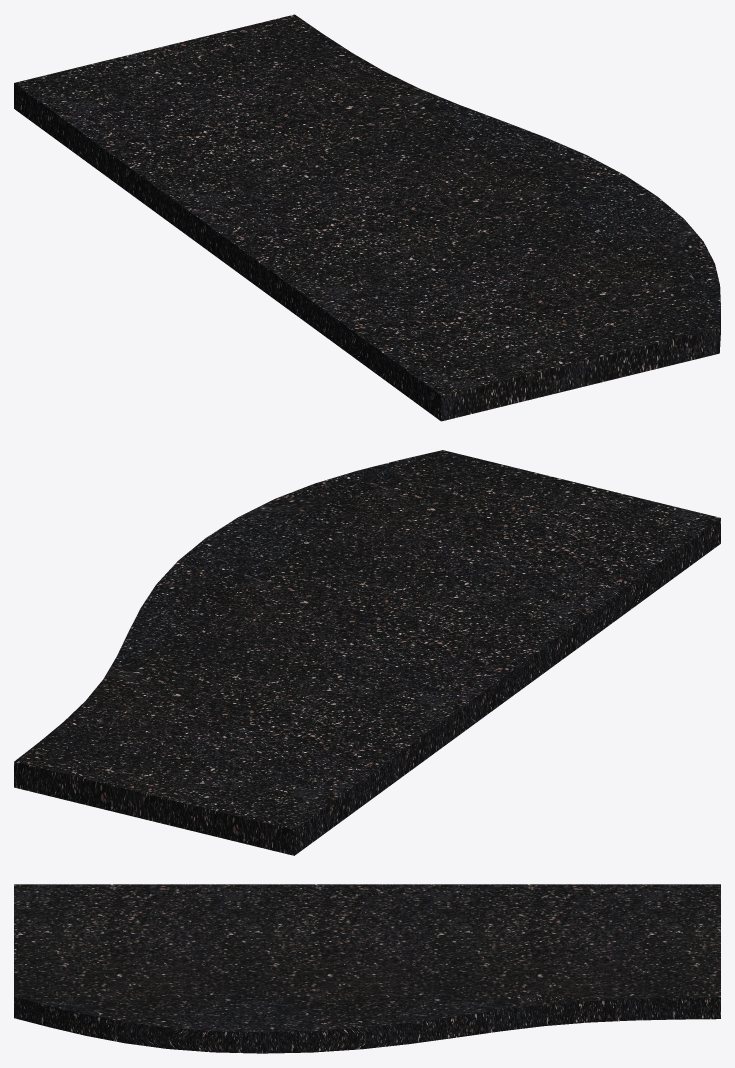
The model's file is плитка волна облицовка.glb.
3 renders of one model, top to bottom at view 1: azimuth 30°, elevation 25°; view 2: azimuth 150°, elevation 25°; view 3: azimuth 270°, elevation 25°, orthographic. The views are drawn at different scales.
Parts seen in each view (by area): view 1: Cube.030; view 2: Cube.030; view 3: Cube.030.
Part boxes in pixels (left/top/right/bottom): Cube.030: left=14, top=14, right=720, bottom=421; Cube.030: left=14, top=450, right=720, bottom=855; Cube.030: left=14, top=884, right=720, bottom=1053.
Size of the model in its own units: 0.297 by 0.02 by 0.6.
Materials: 1 (1 with a texture image).
